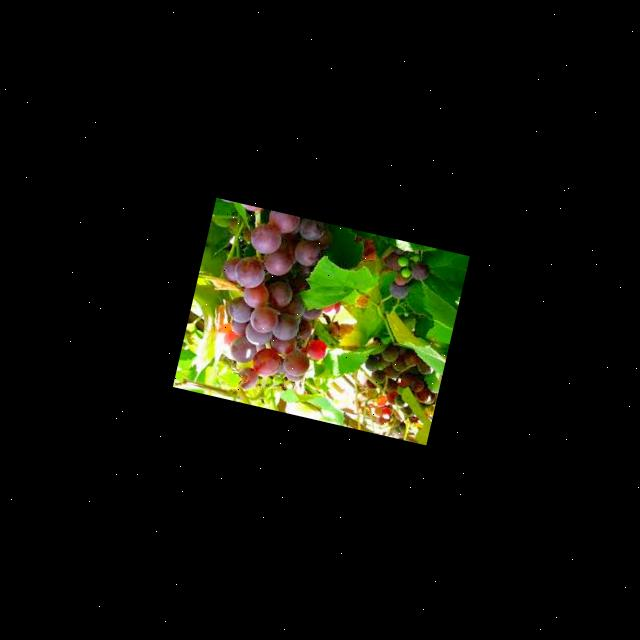grape: (194, 202, 353, 404), (348, 336, 444, 439)
